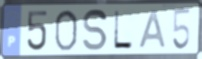5: (27, 9, 50, 53), (171, 7, 192, 51)
A: (137, 9, 168, 50)
L: (112, 9, 135, 51)
O: (53, 9, 80, 53)
S: (82, 8, 109, 53)
